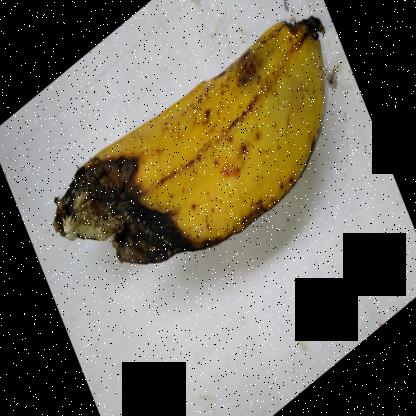rotten: (44, 157, 217, 280), (217, 0, 340, 85)
